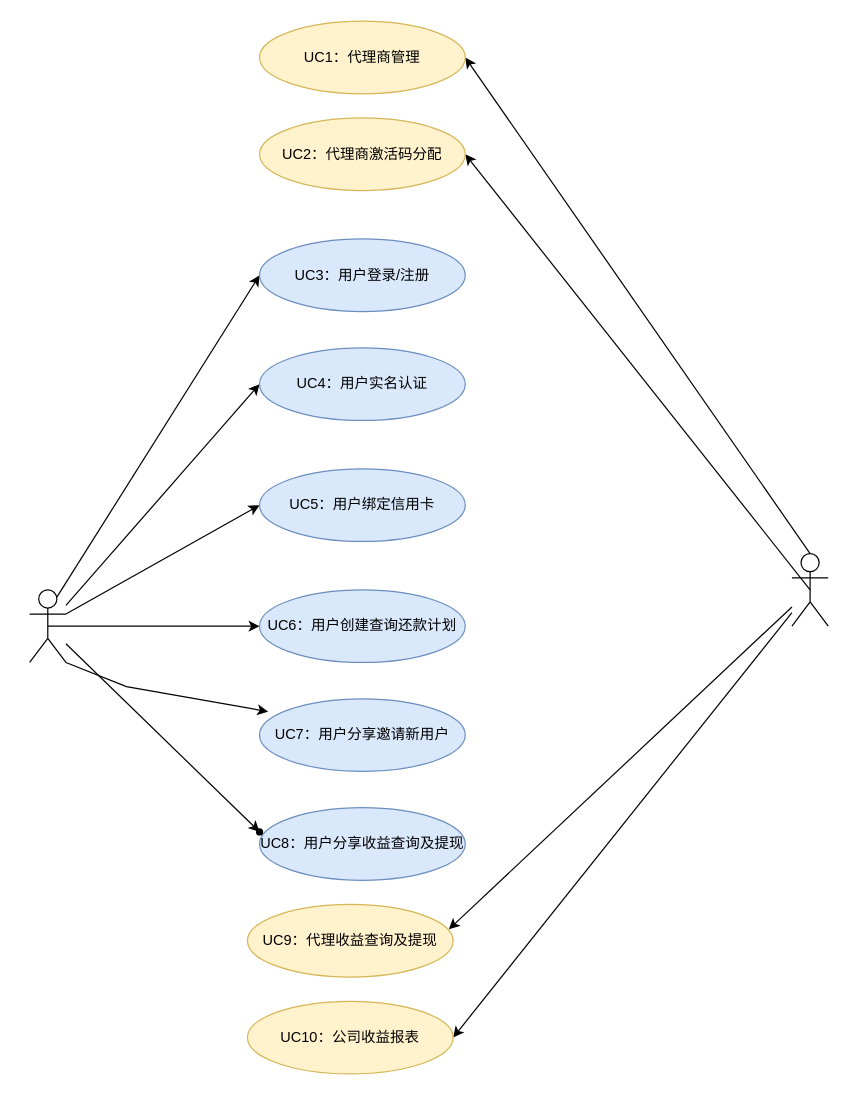
This 853x1095 diagram has some shape labels left out. Each missing label, with the centre of its shape:
"App用户" belongs at point (47, 625).
"代理商" belongs at point (809, 589).
